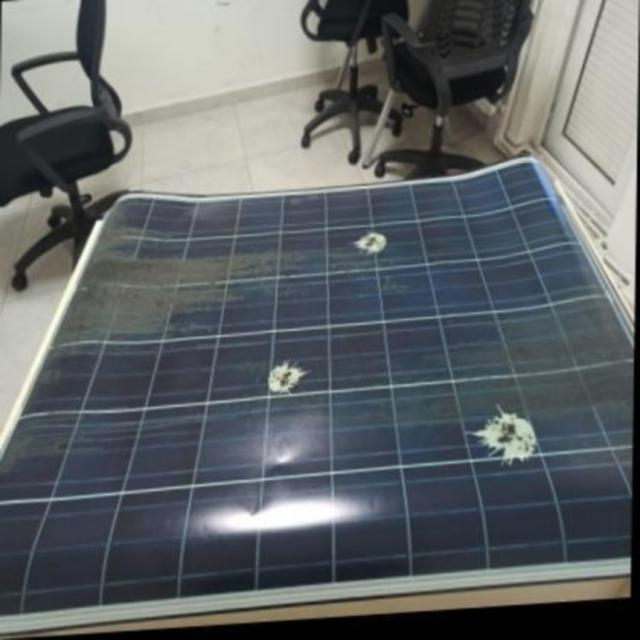soiled: (1, 189, 632, 634)
